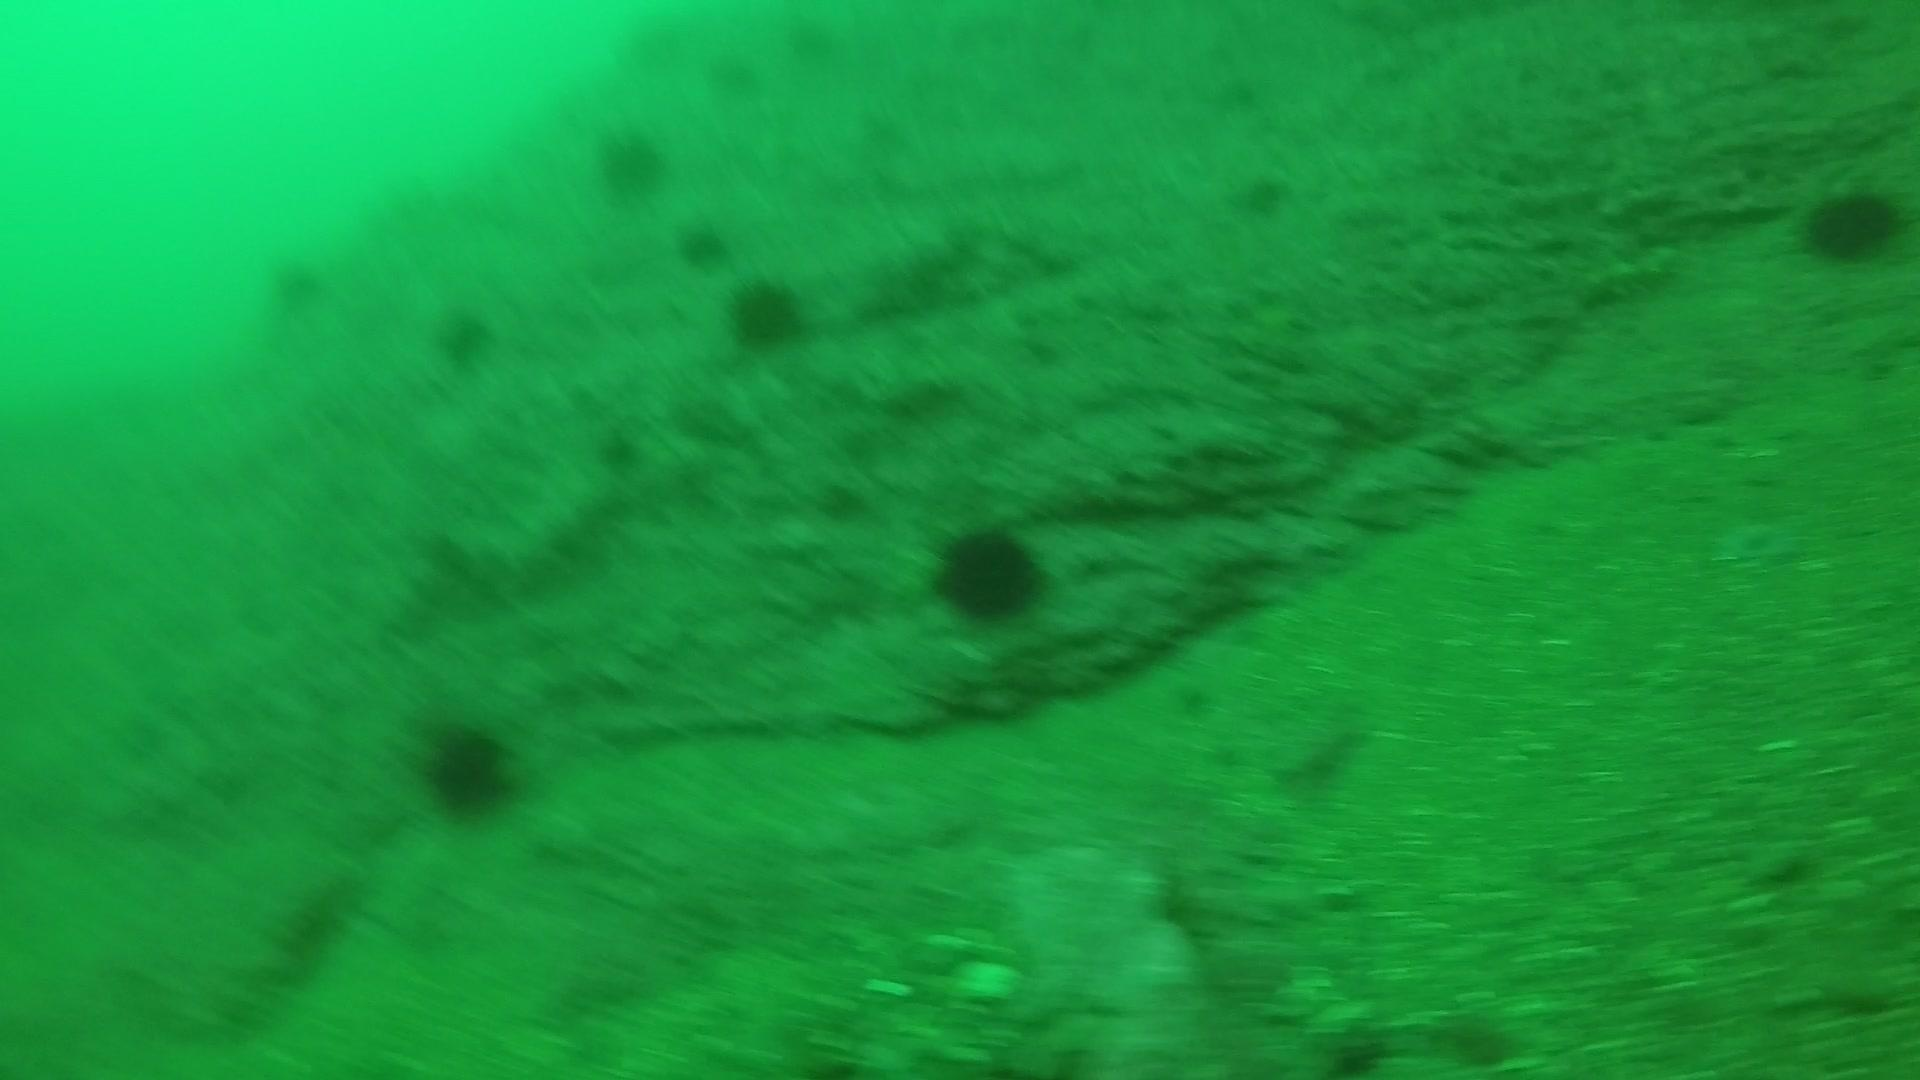echinus: (927, 517, 1051, 628), (415, 713, 524, 822), (262, 872, 363, 982), (1795, 175, 1909, 270), (588, 5, 686, 84), (721, 272, 812, 355), (591, 119, 673, 202), (773, 18, 861, 84), (427, 297, 498, 371), (262, 248, 332, 316), (1228, 166, 1294, 223), (673, 215, 735, 273), (698, 47, 760, 105)
starfish: (1706, 508, 1812, 570)
